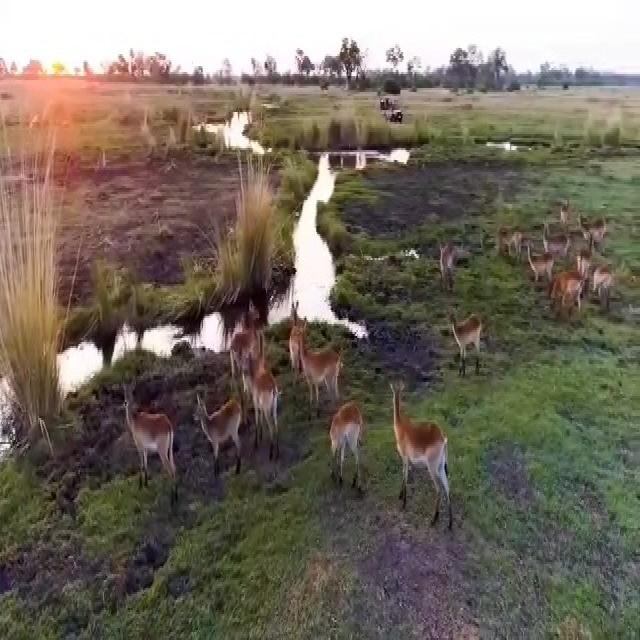Deer: (388, 392, 460, 528), (119, 380, 174, 488), (190, 388, 244, 482), (330, 402, 370, 501), (230, 298, 272, 387), (249, 357, 280, 455), (449, 304, 488, 380), (302, 330, 340, 402), (286, 305, 306, 384), (436, 240, 462, 299), (580, 206, 610, 255), (542, 219, 571, 263), (565, 270, 589, 320), (527, 243, 554, 287), (498, 225, 522, 272), (596, 262, 617, 306), (561, 208, 569, 232)
